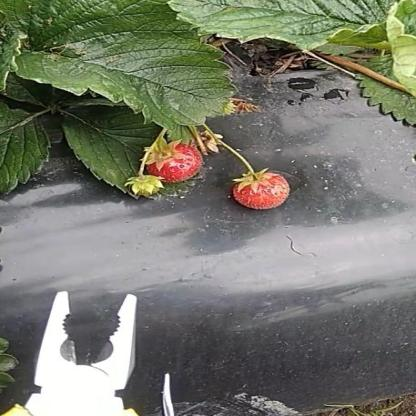ripe: (223, 168, 310, 216), (131, 140, 212, 184)
